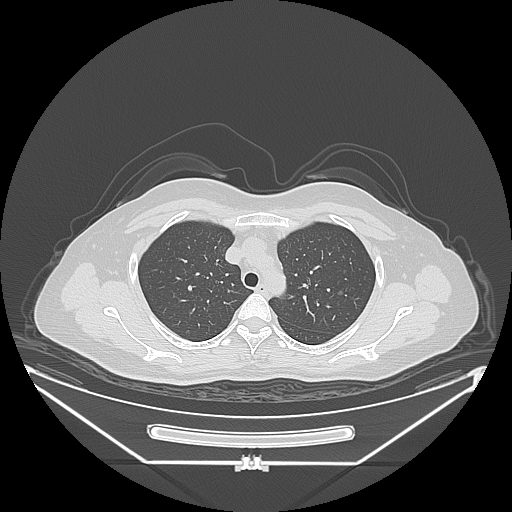nodule: (336, 290, 343, 296)
